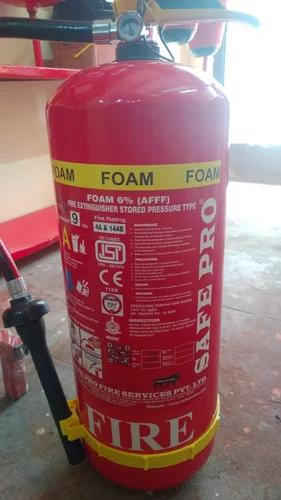floor-kept: (0, 0, 279, 500)
